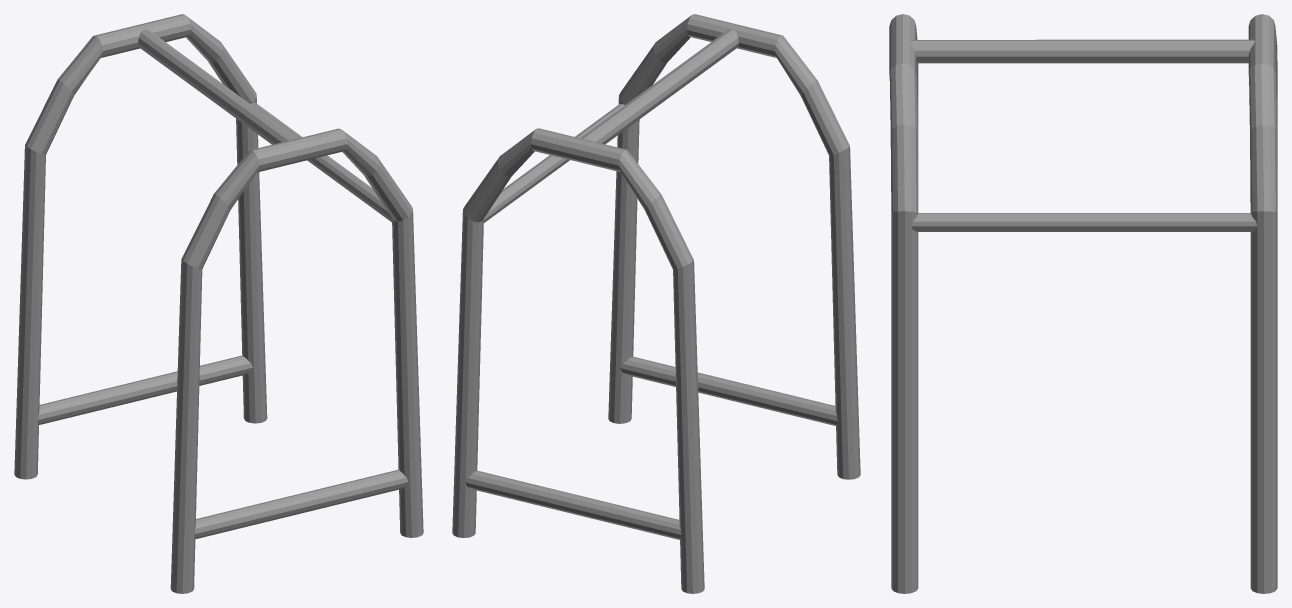
Rendered from deambuleObs.obj.
3 views of the same model, side by side, from view 1: azimuth 30°, elevation 25°; view 2: azimuth 150°, elevation 25°; view 3: azimuth 270°, elevation 25° (orthographic). The views are drawn at different scales.
Parts seen in each view (by area): view 1: Cylinder_Cylinder.003; view 2: Cylinder_Cylinder.003; view 3: Cylinder_Cylinder.003.
Part boxes in pixels (bbox=[...]): Cylinder_Cylinder.003: bbox=[14, 14, 423, 593]; Cylinder_Cylinder.003: bbox=[452, 14, 860, 593]; Cylinder_Cylinder.003: bbox=[889, 14, 1277, 593].
Bounding box in the file's own units: 1.24 × 2.01 × 1.46.
